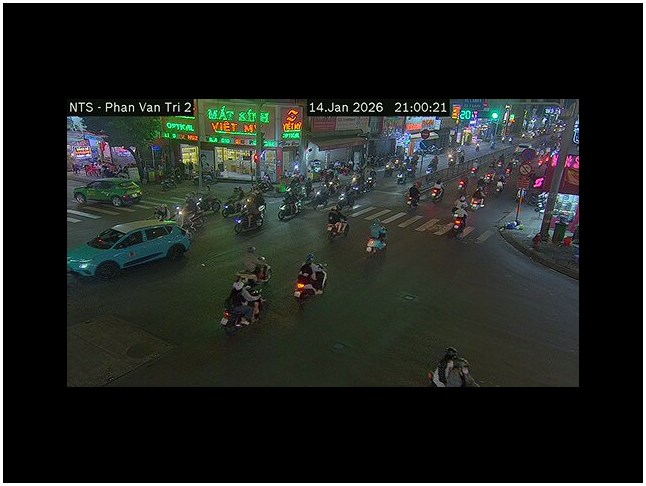car: (67, 218, 191, 280), (74, 177, 143, 209)
motorbike: (230, 195, 267, 235), (326, 212, 348, 238)
